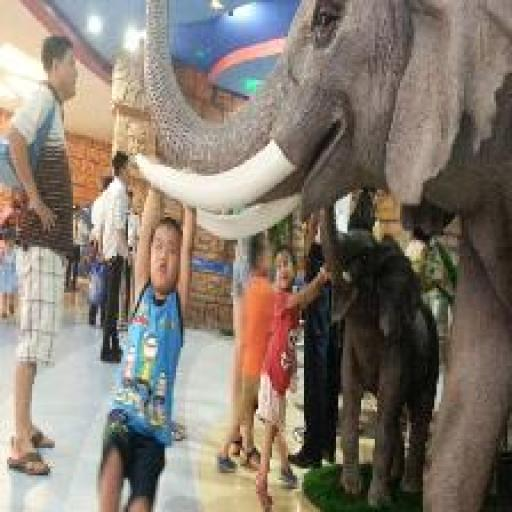Elephant: (128, 0, 510, 510), (320, 185, 439, 510)
